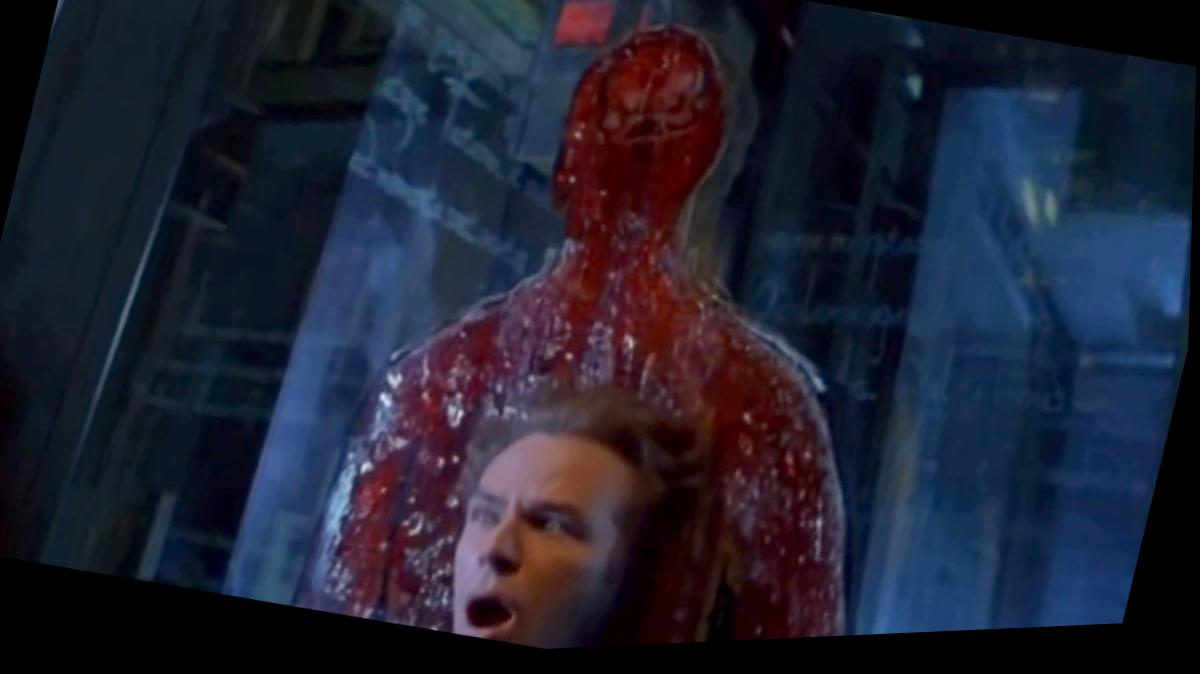Fire: (311, 31, 848, 650)
